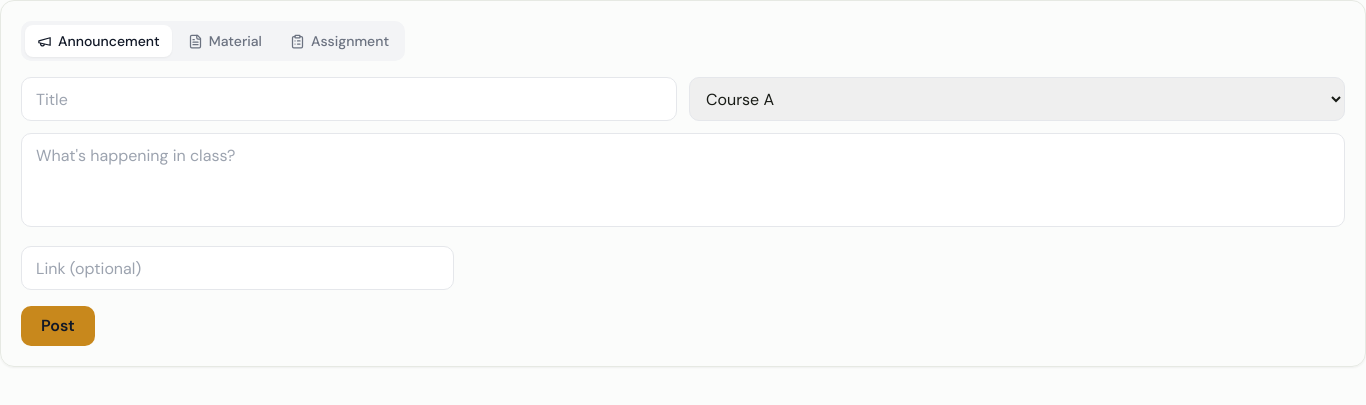
Test: ClassworkComposer › shows due date and points fields only for Assignment
Click the button "Assignment". click: (340, 41)
box: 278,25 -> 401,57
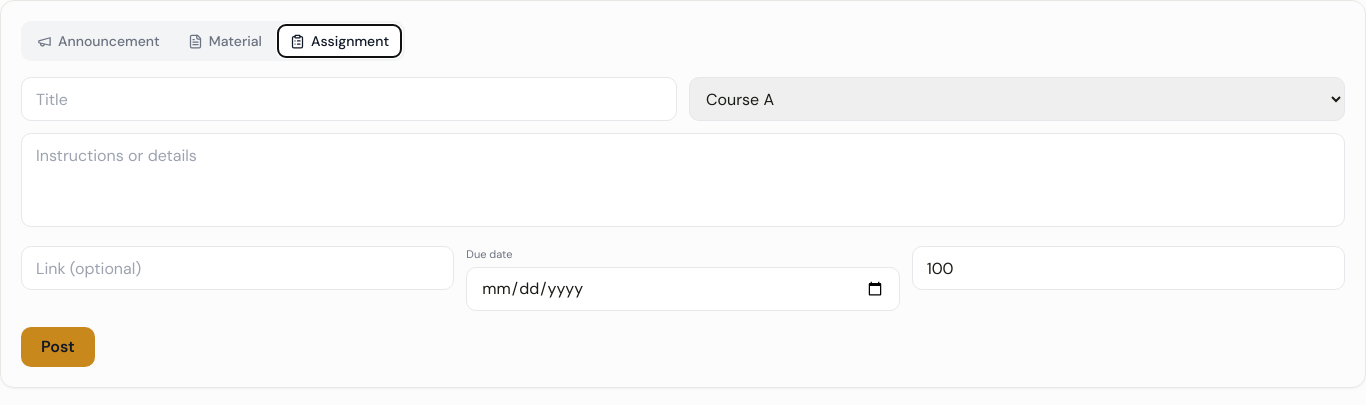
Result: the number field with placeholder "Points" is shown at 912,246 -> 1345,290
